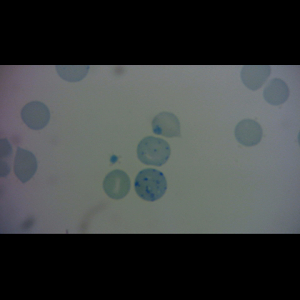aggregate reticulocyte: (133, 168, 168, 202)
erythrocyte: (12, 146, 39, 186), (19, 100, 52, 131), (150, 110, 184, 140), (102, 169, 133, 200), (233, 118, 263, 148), (261, 77, 291, 107)
punctate reticulocyte: (135, 135, 172, 168)
